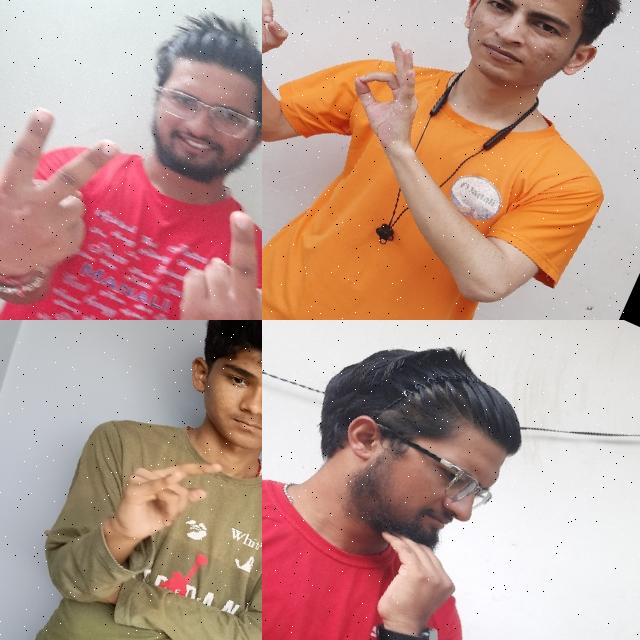Chin Flick: (262, 320, 570, 640)
Corna: (80, 418, 236, 588)
Okay: (321, 26, 456, 172), (262, 0, 319, 95)
Reversed Victory: (0, 86, 136, 320), (141, 192, 262, 320)
